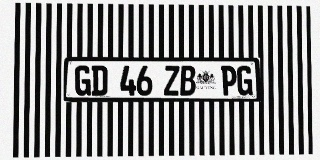4: (120, 66, 136, 96)
6: (137, 66, 152, 96)
B: (180, 66, 196, 95)
D: (91, 65, 107, 96)
G: (75, 65, 91, 96), (237, 66, 252, 95)
P: (221, 66, 237, 95)
Z: (164, 66, 179, 95)
